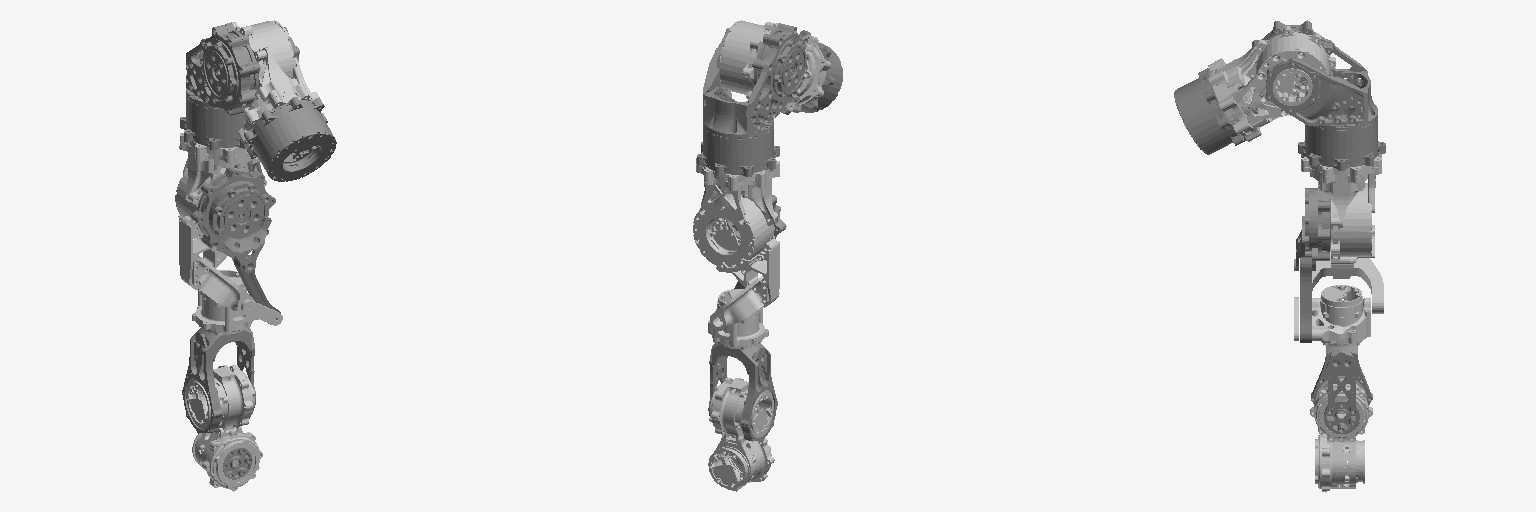
The robot description file, URDF, robot "raipal_L":
<?xml version="1.0" encoding="utf-8"?>
<robot name="raipal_L">
  <!-- [URDF-WRITER] Created with urdf-writer script (by CHH) on 2026-01-27 21:55:36.752974-->

  <!-- [URDF-WRITER] from module [_fixed-base] -->

  <!-- this link makes the robot fixed-base in RAISIM -->
  <link name="world"></link>

  <link name="base"></link>

  <joint name="base_fix" type="fixed">
    <origin xyz="0 0 0.8" rpy="0 0 0"/>
    <parent link="world" />
    <child link="base" />
    <axis xyz="0 0 0" />
  </joint>


  <!-- [URDF-WRITER] from module [raipal_L] -->

  <link name="L_base">
    <!-- CHH / 2025-09-01-20:14 -->
    <!-- mirrored from [L_base] (frame: R0_base)-->
    <inertial>
      <origin 
        xyz="-0.00013000 0.06389000 -0.05559000"
        rpy="0 0 0" />
      <mass value="0.79658000" />
      <inertia
          ixx="0.00074742"
          ixy="-1.892780e-6"
          ixz="-1.179560e-6"
          iyy="0.00098187"
          iyz="0.00013334"
          izz="0.00082394" />
    </inertial>
    <visual>
      <origin
        xyz="0 0 0"
        rpy="0 0 0" />
      <geometry>
        <mesh filename="../meshes/L_base.STL" />
      </geometry>
      <material name="">
        <color rgba=".6 .6 .6 1" />
      </material>
    </visual>
    <!--</collision>
      <origin
        xyz="0 0 0"
        rpy="0 0 0" />
      <geometry>
        <mesh filename="../meshes/L_base.STL" />
      </geometry>
    </collision>-->
  </link>

  <joint name="L_fix" type="fixed">
    <origin xyz="0 0 0" rpy="0 0 0"/>
    <parent link="base" />
    <child link="L_base" />
    <axis xyz="0 0 0" />
  </joint>

  <link name="L_collar">
    <!-- CHH / 2025-09-01-20:14 -->
    <!-- mirrored from [L_collar] (frame: R1_flexion)-->
    <inertial>
      <origin 
        xyz="0.00471000 1.000000e-5 0.10057000"
        rpy="0 0 0" />
      <mass value="1.72283000" />
      <inertia
          ixx="0.00466072"
          ixy="-5.127800e-7"
          ixz="-0.00028338"
          iyy="0.00434837"
          iyz="-8.010400e-7"
          izz="0.00167296" />
    </inertial>
    <visual>
      <origin
        xyz="0 0 0"
        rpy="0 0 0" />
      <geometry>
        <mesh filename="../meshes/L_collar.STL" />
      </geometry>
      <material name="">
        <color rgba="0.8 0.8 0.8 1" />
      </material>
    </visual>
    <!--</collision>
      <origin
        xyz="0 0 0"
        rpy="0 0 0" />
      <geometry>
        <mesh filename="../meshes/L_collar.STL" />
      </geometry>
    </collision>-->
  </link>

  <joint name="L1_flexion" type="revolute"> <!--[0]-->
    <origin
      xyz="0 0.037198 -0.0709"
      rpy="-1.0472 0 0" />
    <parent link="L_base" />
    <child link="L_collar" />
    <axis
      xyz="0 0 -1" />
    <limit
      lower="-1.57"
      upper="3.14"
      effort="181"
      velocity="13.9" />
    <dynamics rotor_inertia = "0.0576402034658611" />
    <!-- Calculated by CHH on 2025-09-01-20:14-->  
  </joint>

  <link name="L_shoulder">
    <!-- CHH / 2025-09-01-20:14 -->
    <!-- mirrored from [L_shoulder] (frame: R2_adduction)-->
    <inertial>
      <origin 
        xyz="-0.03309000 -0.04277000 0.04408000"
        rpy="0 0 0" />
      <mass value="1.92988000" />
      <inertia
          ixx="0.00554587"
          ixy="-0.00224326"
          ixz="-0.00046924"
          iyy="0.00422168"
          iyz="-0.00058524"
          izz="0.00699049" />
    </inertial>
    <visual>
      <origin
        xyz="0 0 0"
        rpy="0 0 0" />
      <geometry>
        <mesh filename="../meshes/L_shoulder.STL" />
      </geometry>
      <material name="">
        <color rgba="0.6 0.6 0.6 1" />
      </material>
    </visual>
    <!--</collision>
      <origin
        xyz="0 0 0"
        rpy="0 0 0" />
      <geometry>
        <mesh filename="../meshes/L_shoulder.STL" />
      </geometry>
    </collision>-->
  </link>

  <joint name="L2_adduction" type="revolute"> <!--[1]-->
    <origin
      xyz="0.0373 0 0.1418"
      rpy="1.5707963267949 1.0472 -1.5707963267949" />
    <parent link="L_collar" />
    <child link="L_shoulder" />
    <axis
      xyz="0 0 1" />
    <limit
      lower="-2.618"
      upper="0.488"
      effort="181"
      velocity="13.9" />
    <dynamics rotor_inertia = "0.0576402034658611" /> <!-- CHH / 2025-09-01-20:30-->
  </joint>

  <link name="L_humerus">
    <!-- CHH / 2025-09-01-20:14 -->
    <!-- mirrored from [L_humerus] (frame: R3_rotation)-->
    <inertial>
      <origin 
        xyz="-0.00369000 -0.00351000 0.11625000"
        rpy="0 0 0" />
      <mass value="1.96262000" />
      <inertia
          ixx="0.00777442"
          ixy="1.197057e-5"
          ixz="0.00065917"
          iyy="0.00822155"
          iyz="0.00015972"
          izz="0.00201683" />
    </inertial>
    <visual>
      <origin
        xyz="0 0 0"
        rpy="0 0 0" />
      <geometry>
        <mesh filename="../meshes/L_humerus.STL" />
      </geometry>
      <material name="">
        <color rgba="0.8 0.8 0.8 1" />
      </material>
    </visual>
    <!--</collision>
      <origin
        xyz="0 0 0"
        rpy="0 0 0" />
      <geometry>
        <mesh filename="../meshes/L_humerus.STL" />
      </geometry>
    </collision>-->
  </link>

  <joint name="L3_rotation" type="revolute"> <!--[2]-->
    <origin
      xyz="-0.06 -0.06025 0.0373"
      rpy="1.5707963267949 1.5707963267949 0" />
    <parent link="L_shoulder" />
    <child link="L_humerus" />
    <axis
      xyz="0 0 1" />
    <limit
      lower="-3.14"
      upper="3.14"
      effort="181"
      velocity="13.9" />
    <dynamics rotor_inertia = "0.0576402034658611" /> <!-- CHH / 2025-09-01-20:30-->
  </joint>

  <link name="L_elb_input">
    <!-- CHH / 2025-09-01-20:14 -->
    <!-- mirrored from [L_elb_input] (frame: R4a_elbow_power)-->
    <inertial>
      <origin 
        xyz="-2.000000e-5 -0.00335000 0.05897000"
        rpy="0 0 0" />
      <mass value="0.83412000" />
      <inertia
          ixx="0.00071114"
          ixy="-7.660000e-7"
          ixz="-9.255500e-7"
          iyy="0.00059983"
          iyz="5.504818e-5"
          izz="0.00080767" />
    </inertial>
    <visual>
      <origin
        xyz="0 0 0"
        rpy="0 0 0" />
      <geometry>
        <mesh filename="../meshes/L_elb_input.STL" />
      </geometry>
      <material name="">
        <color rgba="0.6 0.6 0.6 1" />
      </material>
    </visual>
    <!--</collision>
      <origin
        xyz="0 0 0"
        rpy="0 0 0" />
      <geometry>
        <mesh filename="../meshes/L_elb_input.STL" />
      </geometry>
    </collision>-->
  </link>

  <joint name="L4a_elbow_power" type="revolute"> <!--[3]-->
    <origin
      xyz="0 -0.0373 0.1418"
      rpy="-1.5707963267949 0 0" />
    <parent link="L_humerus" />
    <child link="L_elb_input" />
    <axis
      xyz="0 0 -1" />
    <limit
      lower="0"
      upper="1.556"
      effort="181"
      velocity="13.9" />
    <dynamics rotor_inertia = "0.0576402034658611" /> <!-- CHH / 2025-09-01-20:30-->
  </joint>

  <link name="L_elb_bar">
    <!-- CHH / 2025-09-01-20:14 -->
    <!-- mirrored from [L_elb_bar] (frame: R4b_elbow_bar_input)-->
    <inertial>
      <origin 
        xyz="0.04274000 -0.00159000 -4.000000e-5"
        rpy="0 0 0" />
      <mass value="0.05314000" />
      <inertia
          ixx="2.335610e-6"
          ixy="0.0"
          ixz="0.0"
          iyy="6.149582e-5"
          iyz="3.110000e-9"
          izz="6.199993e-5" />
    </inertial>
    <visual>
      <origin
        xyz="0 0 0"
        rpy="0 0 0" />
      <geometry>
        <mesh filename="../meshes/L_elb_bar.STL" />
      </geometry>
      <material name="">
        <color rgba="0.5 0.5 0.5 1" />
      </material>
    </visual>
    <!--</collision>
      <origin
        xyz="0 0 0"
        rpy="0 0 0" />
      <geometry>
        <mesh filename="../meshes/L_elb_bar.STL" />
      </geometry>
    </collision>-->
  </link>

  <joint name="L4b_elbow_bar_input" type="revolute">  <!--[4-unpowered]-->
    <origin
      xyz="0.00134978286029327 -0.0599848154638326 0.0812119041053838"
      rpy="0 0 -1.12941902735751" />
    <parent link="L_elb_input" />
    <child link="L_elb_bar" />
    <axis
      xyz="0 0 1" />
    <limit
      lower="0"
      upper="1.802"
      effort="0"
      velocity="100" />
  </joint>

  <link name="L_ulna">
    <!-- CHH / 2025-09-01-20:14 -->
    <!-- mirrored from [L_ulna] (frame: R4_elbow)-->
    <inertial>
      <origin 
        xyz="0.00533000 -0.01576000 -0.03891000"
        rpy="0 0 0" />
      <mass value="0.36947000" />
      <inertia
          ixx="0.00032310"
          ixy="1.385696e-5"
          ixz="-4.244104e-5"
          iyy="0.00036383"
          iyz="5.919040e-6"
          izz="0.00020708" />
    </inertial>
    <visual>
      <origin
        xyz="0 0 0"
        rpy="0 0 0" />
      <geometry>
        <mesh filename="../meshes/L_ulna.STL" />
      </geometry>
      <material name="">
        <color rgba="0.8 0.8 0.8 1" />
      </material>
    </visual>
    <!--</collision>
      <origin
        xyz="0 0 0"
        rpy="0 0 0" />
      <geometry>
        <mesh filename="../meshes/L_ulna.STL" />
      </geometry>
    </collision>-->
  </link>

  <joint name="L4_elbow" type="revolute">  <!--[5-unpowered]-->
    <origin
      xyz="0 0.043912 0.25475"
      rpy="-1.5707963267949 0 0" />
    <parent link="L_humerus" />
    <child link="L_ulna" />
    <axis
      xyz="0 0 1" />
    <limit
      lower="0"
      upper="2.2689"
      effort="0"
      velocity="100" />
  </joint>

  <link name="L_radius">
    <!-- CHH / 2025-09-01-20:14 -->
    <!-- link name: [L_radius]-->
    <!-- frame: [L5_roll]-->
    <inertial>
      <origin 
        xyz="0.00151000 0.0 0.10290000"
        rpy="0 0 0" />
      <mass value="0.42307000" />
      <inertia
          ixx="0.00112662"
          ixy="1.975000e-8"
          ixz="-5.589578e-5"
          iyy="0.00120471"
          iyz="-1.556000e-8"
          izz="0.00024138" />
    </inertial>
    <visual>
      <origin
        xyz="0 0 0"
        rpy="0 0 0" />
      <geometry>
        <mesh filename="../meshes/L_radius.STL" />
      </geometry>
      <material name="">
        <color rgba="0.6 0.6 0.6 1" />
      </material>
    </visual>
    <!--<collision>
      <origin
        xyz="0 0 0"
        rpy="0 0 0" />
      <geometry>
        <mesh filename="../meshes/L_radius.STL" />
      </geometry>
    </collision>-->
  </link>

  <joint name="L5_roll" type="revolute"> <!--[6]-->
    <origin
      xyz="0 0.0135819531869474 -0.0439119041053754"
      rpy="1.5707963267949 0 0" />
    <parent link="L_ulna" />
    <child link="L_radius" />
    <axis
      xyz="0 0 1" />
    <limit
      lower="-1.57"
      upper="1.57"
      effort="12.61"
      velocity="53.8" />
    <dynamics rotor_inertia = "0.000540543349430043" /> <!-- CHH / 2025-09-01-20:30-->
  </joint>

  <link name="L_carpal">
    <!-- CHH / 2025-09-01-20:14 -->
    <!-- link name: [L_carpal]-->
    <!-- frame: [L6_pitch]-->
    <inertial>
      <origin 
        xyz="-0.00117000 -0.03421000 0.02964000"
        rpy="0 0 0" />
      <mass value="0.67981000" />
      <inertia
          ixx="0.00128813"
          ixy="-3.134577e-5"
          ixz="3.268690e-6"
          iyy="0.00040998"
          iyz="9.323146e-5"
          izz="0.00126953" />
    </inertial>
    <visual>
      <origin
        xyz="0 0 0"
        rpy="0 0 0" />
      <geometry>
        <mesh filename="../meshes/L_carpal.STL" />
      </geometry>
      <material name="">
        <color rgba="0.8 0.8 0.8 1" />
      </material>
    </visual>
    <!--<collision>
      <origin
        xyz="0 0 0"
        rpy="0 0 0" />
      <geometry>
        <mesh filename="../meshes/L_carpal.STL" />
      </geometry>
    </collision>-->
  </link>

  <joint name="L6_pitch" type="revolute"> <!--[7]-->
    <origin
      xyz="-0.0337 0 0.153581953186935"
      rpy="-1.5707963267949 0 -1.5707963267949" />
    <parent link="L_radius" />
    <child link="L_carpal" />
    <axis
      xyz="0 0 -1" />
    <limit
      lower="-2.0944"
      upper="2.0944"
      effort="12.61"
      velocity="53.8" />
    <dynamics rotor_inertia = "0.000540543349430043" /> <!-- CHH / 2025-09-01-20:30-->
  </joint>

  <link name="L_ee">
    <!-- CHH / 2025-09-01-20:14 -->
    <!-- link name: [L_ee]-->
    <!-- frame: [L7_yaw]-->
    <inertial>
      <origin 
        xyz="0.0 0.0 0.04531000"
        rpy="0 0 0" />
      <mass value="0.13143000" />
      <inertia
          ixx="3.339173e-5"
          ixy="0.0"
          ixz="0.0"
          iyy="3.339173e-5"
          iyz="0.0"
          izz="4.133016e-5" />
    </inertial>
    <visual>
      <origin
        xyz="0 0 0"
        rpy="0 0 0" />
      <geometry>
        <mesh filename="../meshes/L_ee.STL" />
      </geometry>
      <material name="">
        <color rgba="0.6 0.6 0.6 1" />
      </material>
    </visual>
    <!--<collision>
      <origin
        xyz="0 0 0"
        rpy="0 0 0" />
      <geometry>
        <mesh filename="../meshes/L_ee.STL" />
      </geometry>
    </collision>-->
  </link>

  <joint name="L7_yaw" type="revolute"> <!--[8]-->
    <origin
      xyz="0.0264 -0.073 0.0337"
      rpy="0 -1.5707963267949 0" />
    <parent link="L_carpal" />
    <child link="L_ee" />
    <axis
      xyz="0 0 1" />
    <limit
      lower="-1.57079"
      upper="1.57079"
      effort="12.61"
      velocity="53.8" />
    <dynamics rotor_inertia = "0.000540543349430043" /> <!-- CHH / 2025-09-01-20:30-->
  </joint>

  <!-- imaginary links for loop closure -->
  <link name="L_loop_barside"></link>

  <joint name="L4cA_elbow_loop_bar" type="fixed">
    <origin
      xyz="0.0854747786370337 0 0"
      rpy="0 0 0" />
    <parent link="L_elb_bar" />
    <child link="L_loop_barside" />
    <axis
      xyz="0 0 -1" />
    <limit
      lower="-3.14"
      upper="3.14"
      effort="0"
      velocity="100" />
  </joint>

  <link name="L_loop_ulnaside"></link>

  <joint name="L4cB_elbow_loop_ulna_fixed" type="fixed">
    <origin
      xyz="0.0378633410992504 -0.0243180468130526 0"
      rpy="0 0 -1.12941902735751" />
    <parent link="L_ulna" />
    <child link="L_loop_ulnaside" />
    <axis
      xyz="0 0 0" />
  </joint>

  

  <!-- [URDF-WRITER] merged constraints -->
  <constraints nominal_config="0 0 0 0 0 0 0 0 0 0 0 0 0 0 0 0 0 0 0 0 0">
    <pin body1="L_loop_barside" body2="L_loop_ulnaside" anchor="0.0 0.0 0.0"/>
  </constraints>

</robot>

--- What the picture shows (computed from the rendered views, not written in the file) ---
3 views of the same robot in one strip: view 1: azimuth 30°, elevation 25°; view 2: azimuth 150°, elevation 25°; view 3: azimuth 270°, elevation 25° (orthographic).
Robot: raipal_L — 14 links, 13 joints (9 revolute, 4 fixed); root link world; default pose: every joint at zero.
Links seen in each view (by area): view 1: L_shoulder, L_humerus, L_elb_input, L_carpal, L_base, L_collar, L_radius, L_ulna, L_ee, L_elb_bar; view 2: L_shoulder, L_humerus, L_carpal, L_collar, L_radius, L_ulna, L_base; view 3: L_shoulder, L_collar, L_humerus, L_carpal, L_ulna, L_base, L_radius, L_elb_input, L_elb_bar.
Boxes of the visible links, bbox=[...] form: L_shoulder: bbox=[180, 23, 299, 150]; L_humerus: bbox=[175, 133, 266, 314]; L_elb_input: bbox=[191, 168, 275, 272]; L_carpal: bbox=[186, 365, 262, 491]; L_base: bbox=[244, 97, 336, 181]; L_collar: bbox=[227, 20, 319, 143]; L_radius: bbox=[182, 328, 255, 433]; L_ulna: bbox=[192, 270, 282, 335]; L_ee: bbox=[223, 448, 251, 479]; L_elb_bar: bbox=[234, 252, 280, 324]; L_shoulder: bbox=[697, 23, 808, 176]; L_humerus: bbox=[693, 158, 779, 330]; L_carpal: bbox=[708, 377, 774, 491]; L_collar: bbox=[719, 20, 830, 112]; L_radius: bbox=[708, 343, 777, 441]; L_ulna: bbox=[708, 289, 768, 349]; L_base: bbox=[781, 30, 842, 114]; L_shoulder: bbox=[1252, 20, 1385, 170]; L_collar: bbox=[1208, 26, 1335, 141]; L_humerus: bbox=[1301, 154, 1383, 313]; L_carpal: bbox=[1310, 376, 1372, 491]; L_ulna: bbox=[1294, 285, 1370, 346]; L_base: bbox=[1174, 68, 1246, 154]; L_radius: bbox=[1311, 345, 1372, 433]; L_elb_input: bbox=[1294, 182, 1329, 270]; L_elb_bar: bbox=[1300, 257, 1311, 342].
Bounding box of the posed robot: 0.108 × 0.2589 × 0.62 m (x, y, z).
10 mesh visuals loaded from 10 distinct referenced files (10 binary STL).
